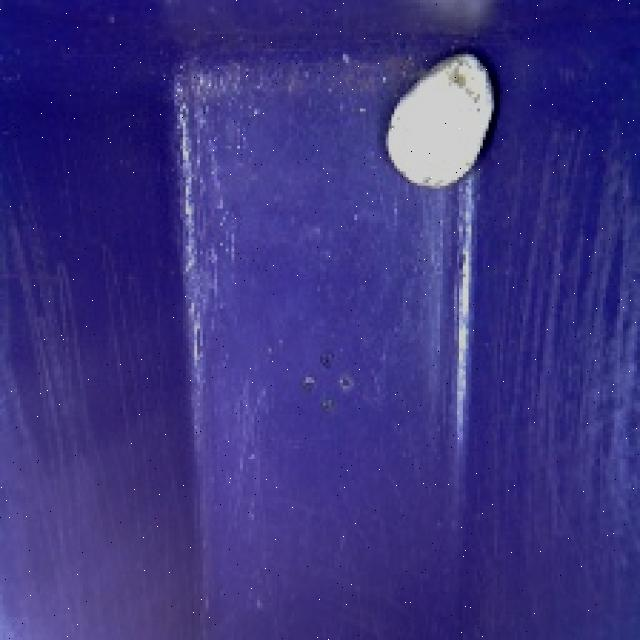cobbles: (378, 41, 508, 198)
